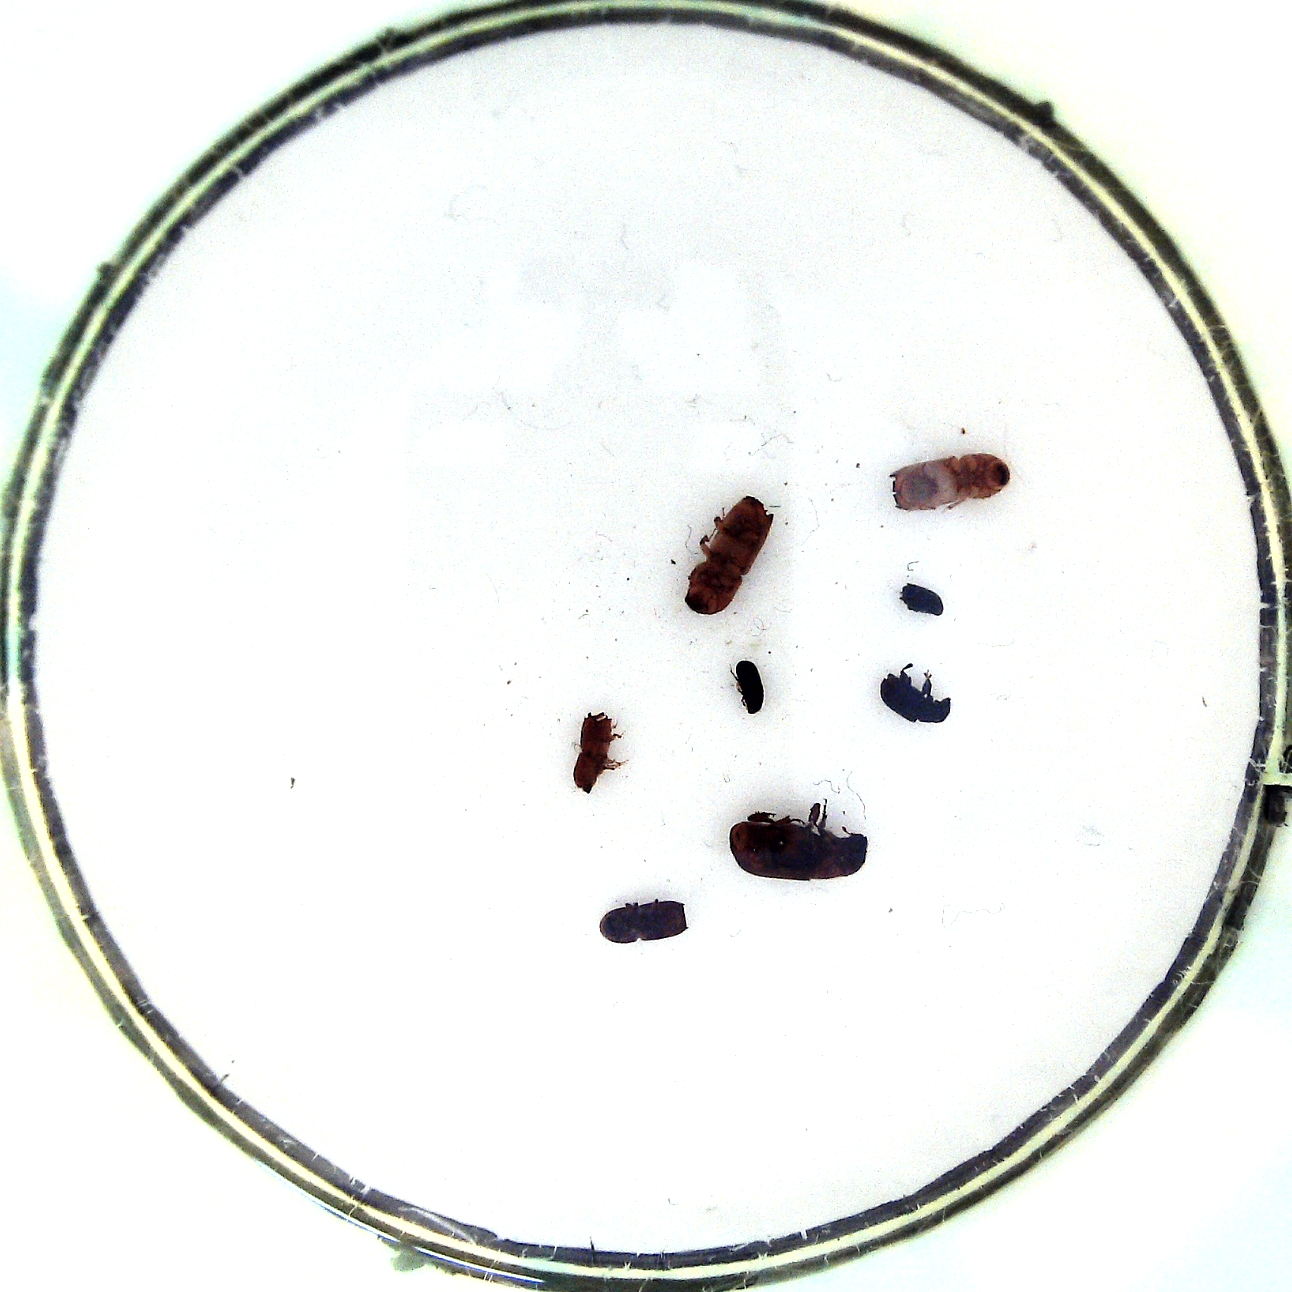Boerner: (681, 492, 776, 621), (884, 448, 1018, 516)
Leconte: (725, 797, 877, 881)
Linnaeus: (595, 897, 695, 943)
acuminatus: (567, 708, 628, 793)
armandi: (877, 661, 960, 728)
coleoptera: (725, 654, 769, 721), (892, 575, 948, 618)
